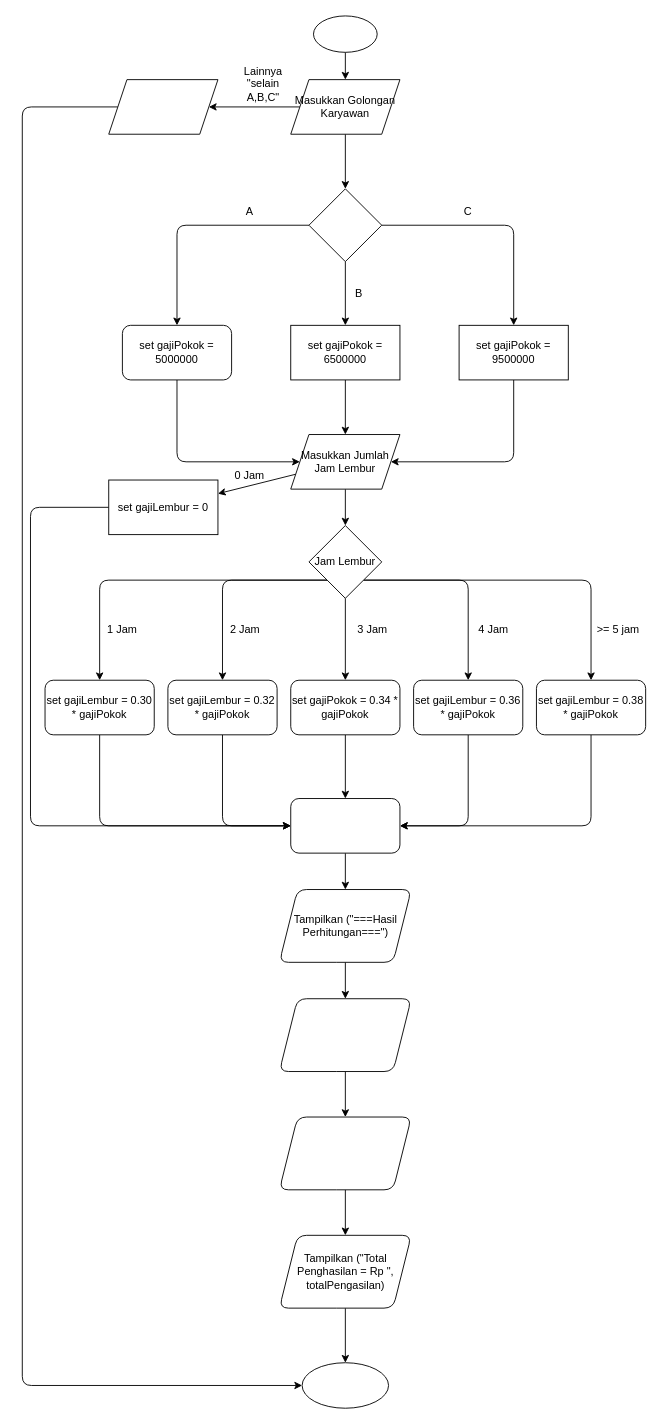
Some shapes in this 662 by 1424 pixel diagram are drawn without their labels. Each missing label, with the centre of its shape:
Golongan: pixel 345 225
Mulai: pixel 345 33
Selesai: pixel 345 1385
set totalPenghasilan = gajiPokok + gajiLembur: pixel 345 825
Tampilkan "Golongan Tidak Valid": pixel 163 106
Tampilkan ("Gaji Lembur = Rp ", gajiLembur): pixel 344 1153
Tampilkan ("Gaji Pokok = Rp ", gajiPokok): pixel 344 1035
